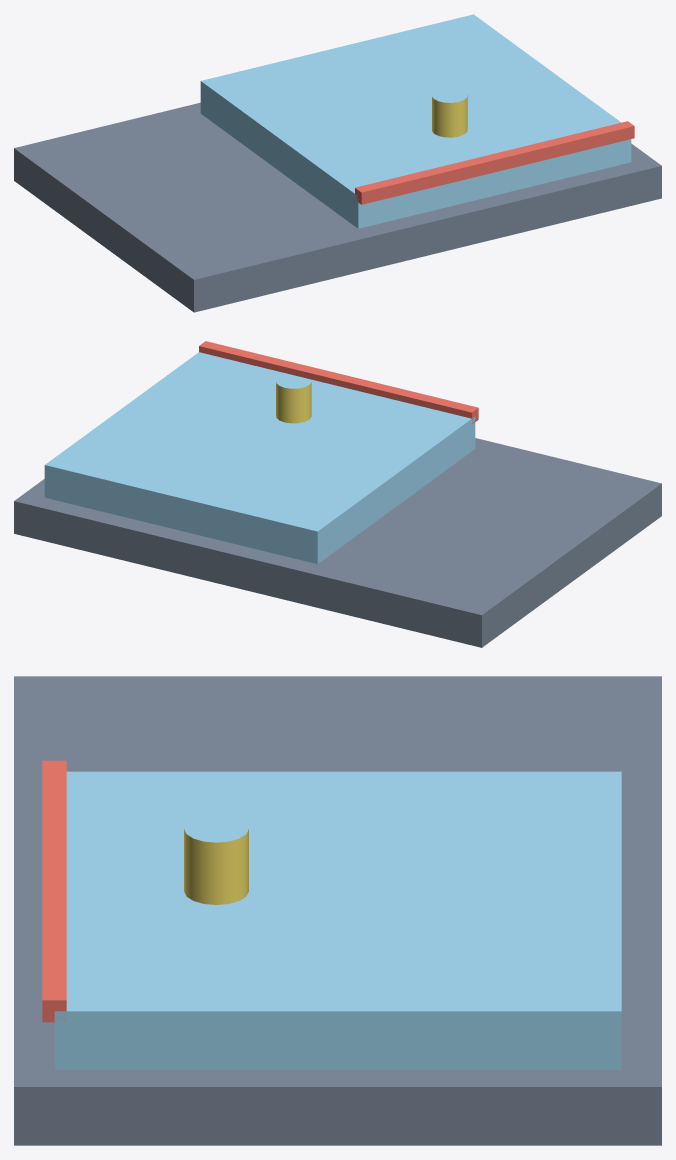
The model's file is is800_steel_bolted_welded_connection.glb.
3 views of the same model, one above another, from view 1: azimuth 30°, elevation 25°; view 2: azimuth 150°, elevation 25°; view 3: azimuth 270°, elevation 25° (orthographic). The views are drawn at different scales.
Parts seen in each view (by area): view 1: StructuralSteelGussetPlate, ConnectingSteelLapPlate, SideFilletWeldThroatBead, HighStrengthHexagonalBoltsGroup; view 2: StructuralSteelGussetPlate, ConnectingSteelLapPlate, SideFilletWeldThroatBead, HighStrengthHexagonalBoltsGroup; view 3: ConnectingSteelLapPlate, StructuralSteelGussetPlate, SideFilletWeldThroatBead, HighStrengthHexagonalBoltsGroup.
Part boxes in pixels (x1,y1,x2,y2): StructuralSteelGussetPlate: (14,102,661,312); ConnectingSteelLapPlate: (200,14,631,228); SideFilletWeldThroatBead: (355,121,634,204); HighStrengthHexagonalBoltsGroup: (432,95,467,137); StructuralSteelGussetPlate: (14,438,661,647); ConnectingSteelLapPlate: (44,352,475,563); SideFilletWeldThroatBead: (199,341,478,424); HighStrengthHexagonalBoltsGroup: (276,382,311,423); ConnectingSteelLapPlate: (54,771,621,1069); StructuralSteelGussetPlate: (14,676,661,1145); SideFilletWeldThroatBead: (42,760,66,1022); HighStrengthHexagonalBoltsGroup: (184,829,248,904).
Size of the model in its own units: 1.2 by 0.25 by 0.8.
